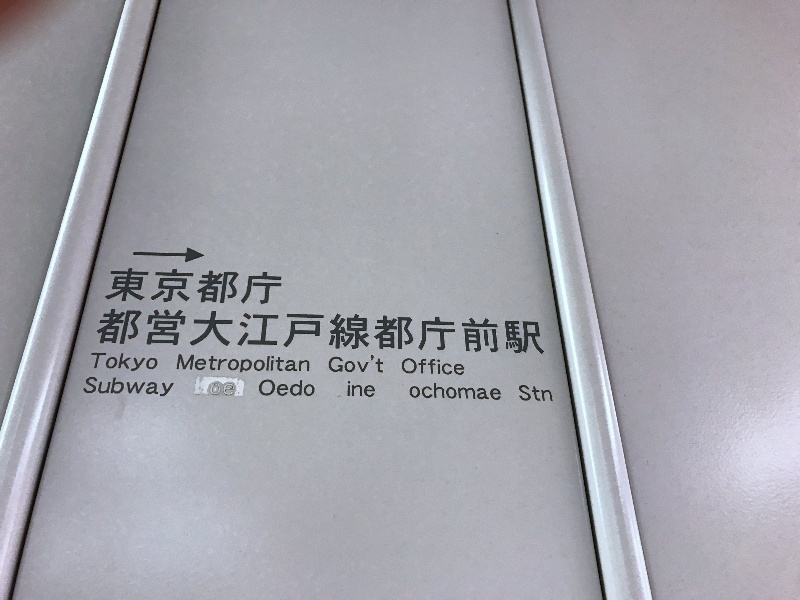text: (113, 306, 128, 353), (129, 306, 144, 353), (145, 306, 160, 353), (161, 306, 176, 353), (177, 306, 192, 353), (193, 306, 208, 353), (209, 306, 224, 353), (225, 306, 240, 353), (241, 306, 256, 353), (257, 306, 272, 353), (273, 306, 288, 353), (289, 306, 304, 353), (305, 306, 320, 353), (321, 306, 336, 353), (337, 306, 352, 353), (353, 306, 368, 353), (369, 306, 384, 353), (385, 306, 400, 353), (401, 306, 416, 353), (417, 306, 432, 353), (433, 306, 448, 353), (529, 317, 545, 358), (465, 317, 480, 358), (481, 317, 496, 358), (497, 317, 512, 358), (513, 317, 528, 358), (113, 266, 128, 306), (129, 266, 144, 306), (145, 266, 160, 306), (161, 266, 176, 306), (177, 266, 192, 306), (193, 266, 208, 306), (209, 266, 224, 306), (225, 266, 240, 306), (241, 266, 256, 306), (257, 266, 272, 306), (100, 306, 112, 353), (449, 306, 460, 353), (273, 266, 285, 306), (401, 355, 416, 380), (417, 355, 432, 380), (433, 355, 448, 380), (449, 355, 464, 380), (417, 383, 432, 408), (433, 383, 448, 408), (449, 383, 464, 408), (465, 383, 480, 408), (481, 383, 496, 408), (161, 375, 177, 398), (97, 351, 112, 375), (113, 351, 128, 375), (129, 351, 144, 375), (97, 375, 112, 398), (113, 375, 128, 398), (129, 375, 144, 398), (145, 375, 160, 398), (369, 354, 385, 375), (145, 351, 159, 375), (177, 352, 192, 374), (193, 352, 208, 374), (209, 352, 224, 374), (225, 352, 240, 374), (241, 352, 256, 374), (257, 352, 272, 374), (273, 352, 288, 374), (289, 352, 304, 374), (337, 354, 352, 375), (353, 354, 368, 375), (529, 383, 544, 404), (404, 383, 416, 408), (273, 379, 288, 399), (289, 379, 304, 399), (353, 380, 368, 399), (545, 383, 558, 404), (259, 379, 272, 399), (516, 383, 528, 404), (305, 379, 316, 399), (87, 375, 96, 398), (212, 381, 224, 398), (497, 383, 504, 408), (225, 381, 235, 398), (328, 354, 336, 375), (369, 380, 377, 399), (465, 355, 471, 380), (305, 352, 311, 374), (461, 317, 464, 358), (109, 266, 112, 306), (91, 351, 96, 375), (347, 380, 352, 399), (399, 355, 400, 380)
